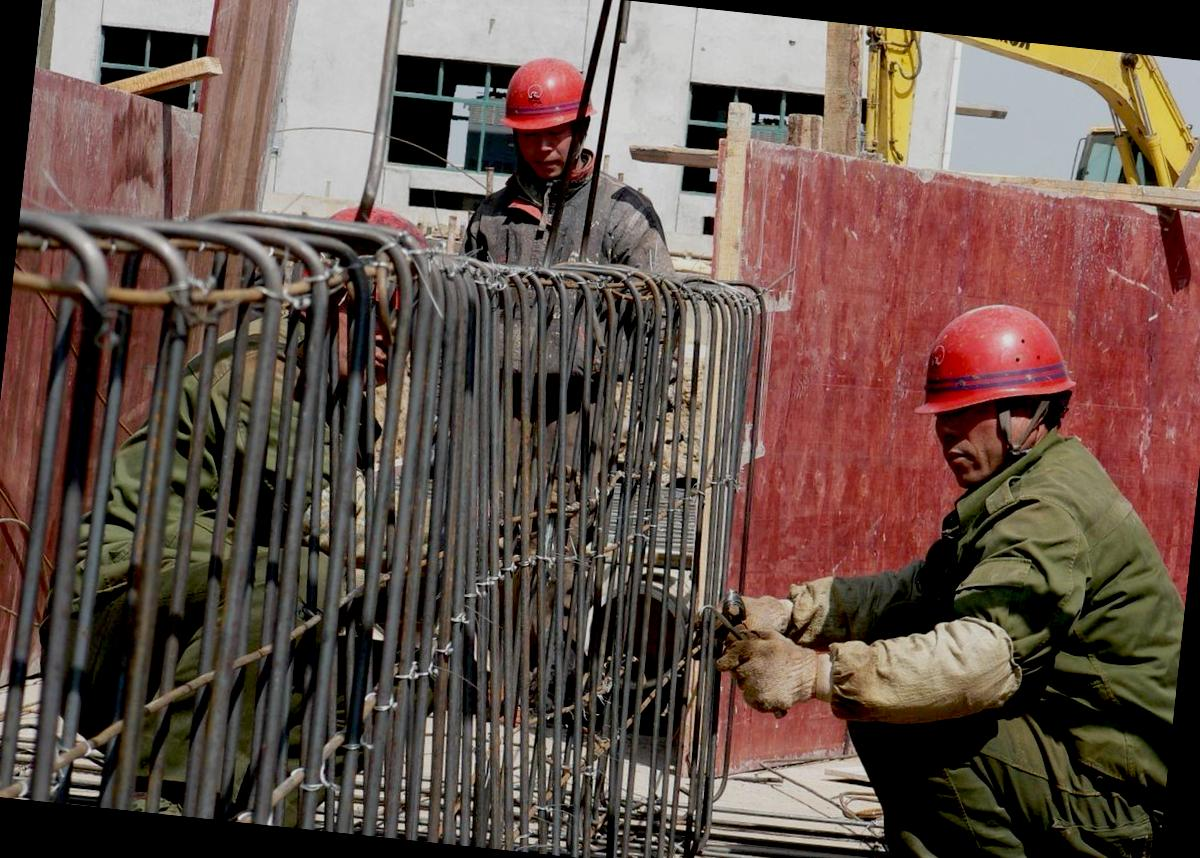helmet: (903, 299, 1091, 436), (486, 51, 592, 139)
no_vest: (878, 441, 1182, 858)
person: (832, 284, 1200, 858)
